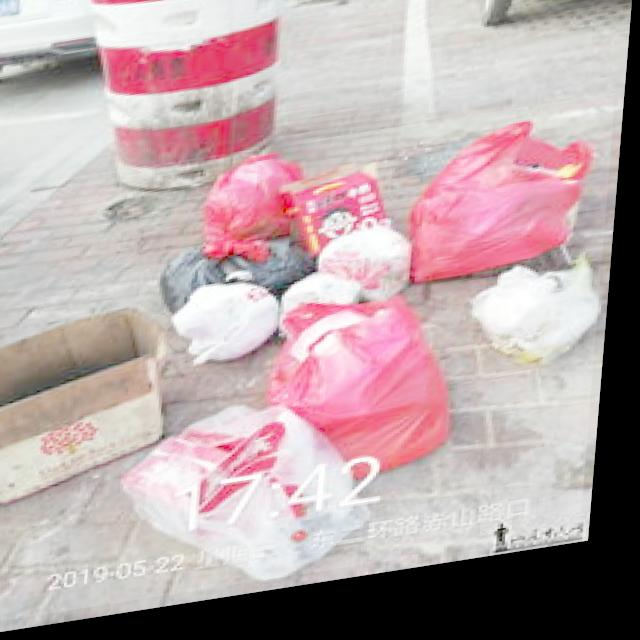garbage: (0, 114, 619, 629)
